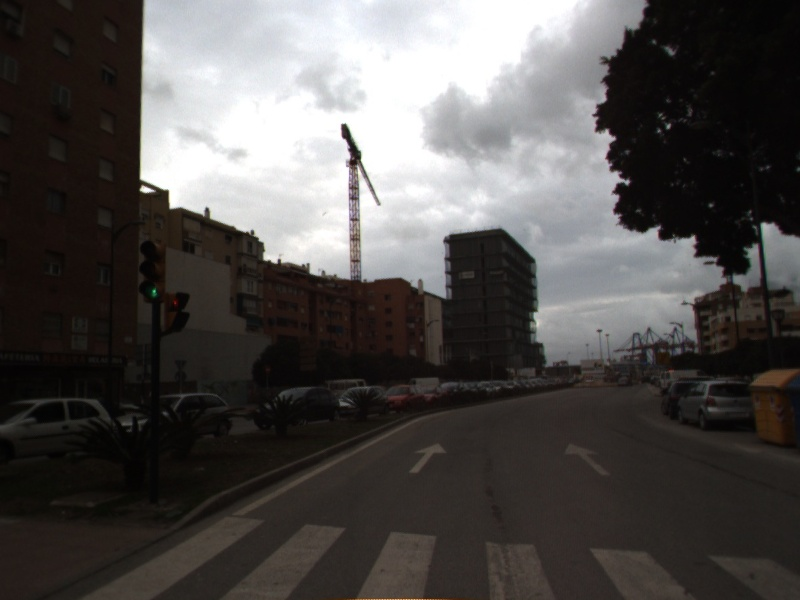STRAIGHT: (561, 441, 613, 478), (406, 441, 450, 475)
